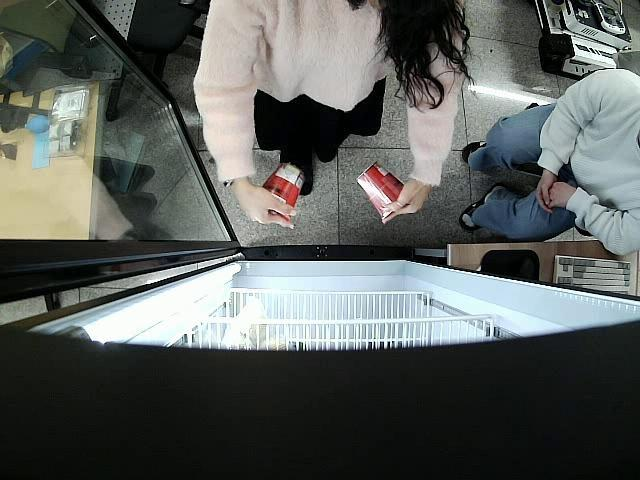02_shinRamen_S: (358, 162, 405, 221), (262, 164, 304, 221)
